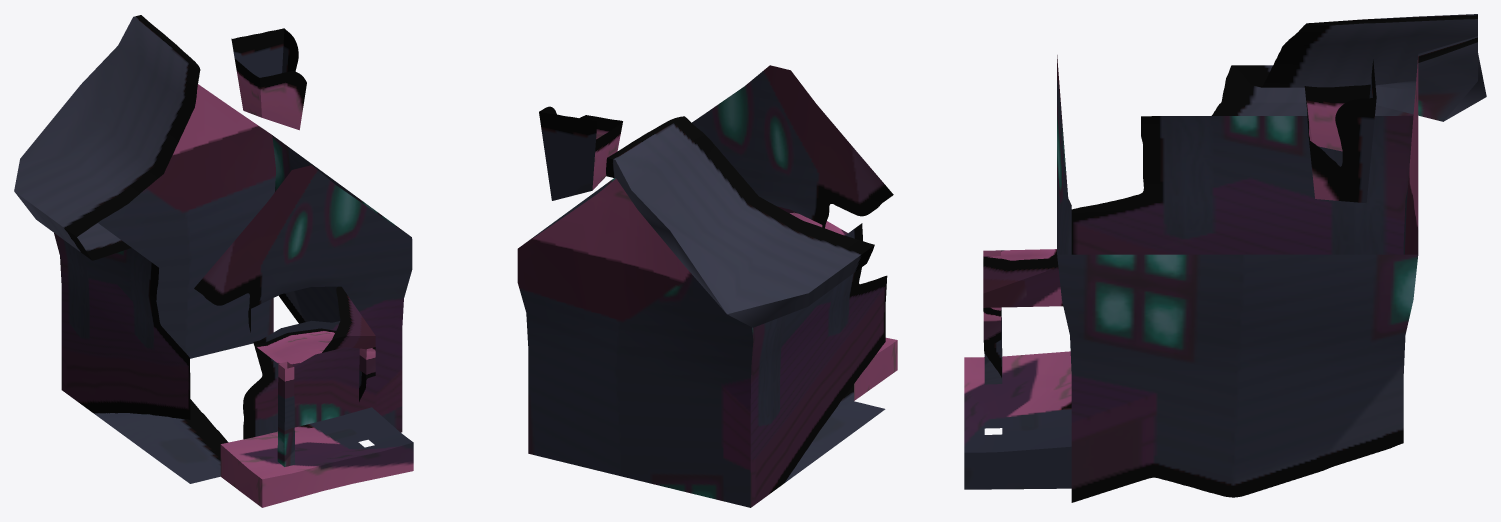
File: HauntedHouse@special.fbx
The picture shows the model from 3 angles, left to right: view 1: azimuth 30°, elevation 25°; view 2: azimuth 150°, elevation 25°; view 3: azimuth 270°, elevation 25°; orthographic projection. The views are drawn at different scales.
Parts seen in each view (by area): view 1: hauntedHouse; view 2: hauntedHouse; view 3: hauntedHouse.
Boxes of the visible parts, bbox=[...] form: hauntedHouse: bbox=[14, 15, 413, 507]; hauntedHouse: bbox=[517, 65, 897, 507]; hauntedHouse: bbox=[964, 14, 1486, 502].
Size of the model in its own units: 179 by 179 by 199.
